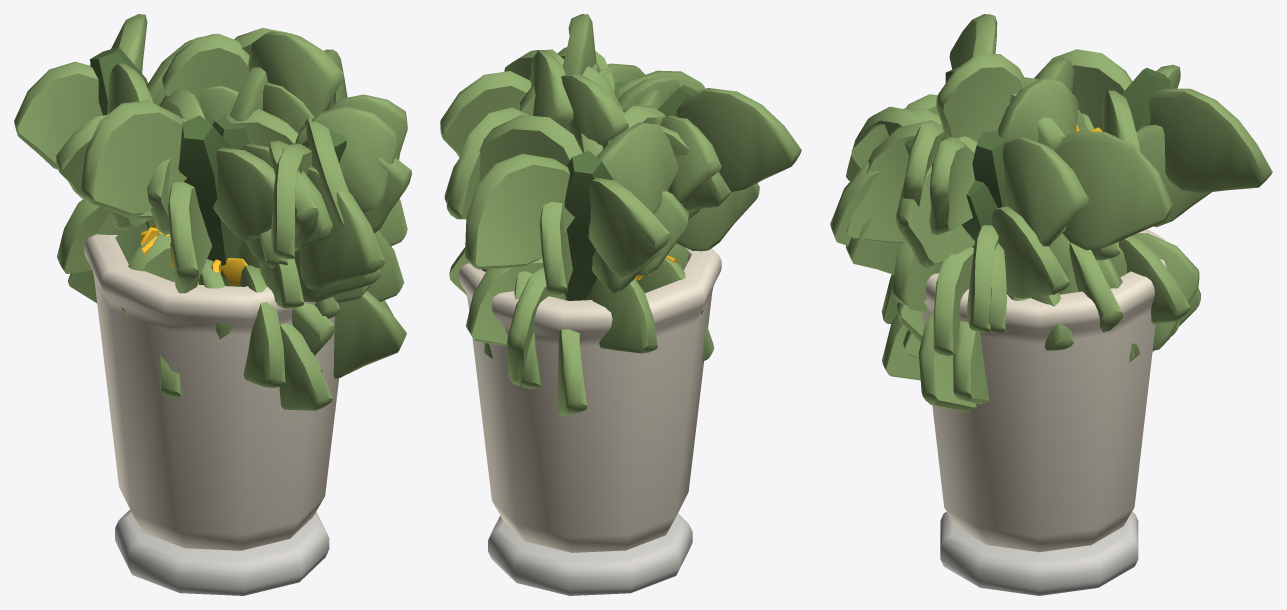
Rendered from petit_pot_bureau.glb.
3 renders of one model, left to right at view 1: azimuth 30°, elevation 25°; view 2: azimuth 150°, elevation 25°; view 3: azimuth 270°, elevation 25°, orthographic. The views are drawn at different scales.
Parts seen in each view (by area): view 1: PTD_Feuille_Clair, PTD_Pot_Creme, PTD_Embase, PTD_Tige, PTD_Fl_Jaune; view 2: PTD_Feuille_Clair, PTD_Pot_Creme, PTD_Embase, PTD_Tige; view 3: PTD_Feuille_Clair, PTD_Pot_Creme, PTD_Embase, PTD_Tige.
Boxes of the visible parts, x1,y1,x2,y2 form: PTD_Feuille_Clair: (14, 14, 411, 410); PTD_Pot_Creme: (84, 234, 339, 550); PTD_Embase: (115, 509, 329, 595); PTD_Tige: (90, 47, 346, 286); PTD_Fl_Jaune: (140, 223, 247, 285); PTD_Feuille_Clair: (440, 14, 801, 416); PTD_Pot_Creme: (458, 248, 721, 552); PTD_Embase: (488, 514, 692, 595); PTD_Tige: (528, 77, 698, 300); PTD_Feuille_Clair: (830, 14, 1272, 412); PTD_Pot_Creme: (921, 229, 1166, 552); PTD_Embase: (940, 512, 1138, 595); PTD_Tige: (905, 67, 1170, 247).
Size of the model in its own units: 0.2478 by 0.3842 by 0.2978.
